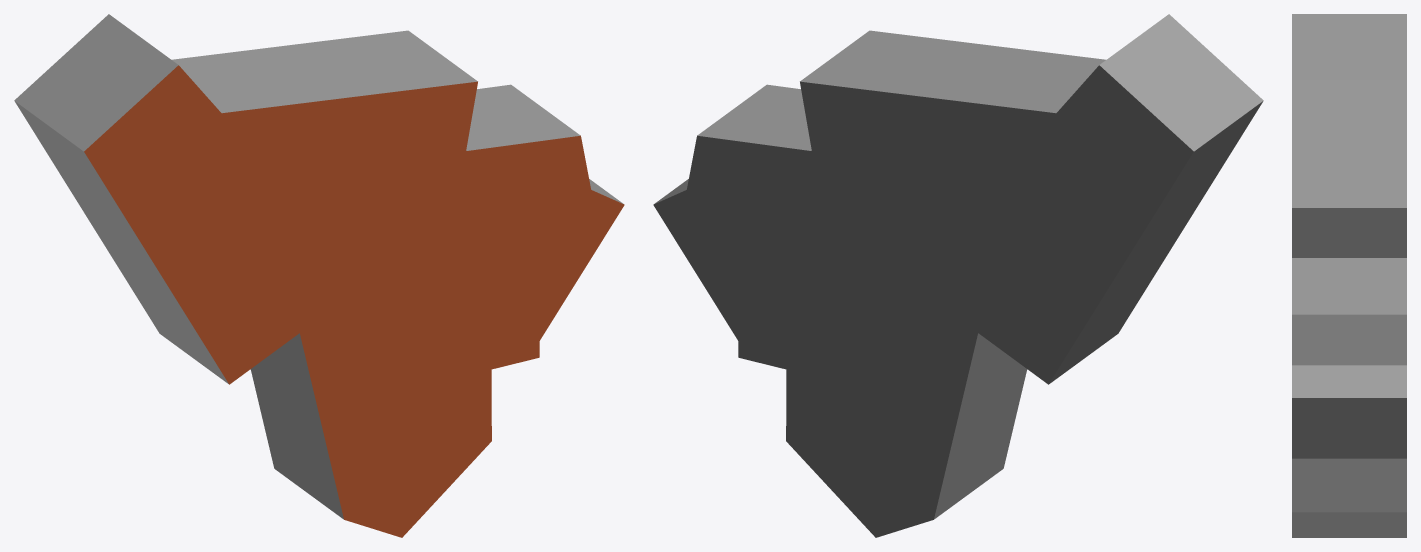
File: construction_4979_assumed_A_Casa_h6m.obj
3 views of the same model, side by side, from view 1: azimuth 30°, elevation 25°; view 2: azimuth 150°, elevation 25°; view 3: azimuth 270°, elevation 25° (orthographic). The views are drawn at different scales.
Parts seen in each view (by area): view 1: construction_4979_assumed_A_Casa; view 2: construction_4979_assumed_A_Casa; view 3: construction_4979_assumed_A_Casa.
Part boxes in pixels (left/top/right/bottom): construction_4979_assumed_A_Casa: left=14, top=14, right=624, bottom=537; construction_4979_assumed_A_Casa: left=653, top=14, right=1263, bottom=537; construction_4979_assumed_A_Casa: left=1292, top=14, right=1406, bottom=537.
Bounding box in the file's own units: 26.84 × 25.01 × 6.
